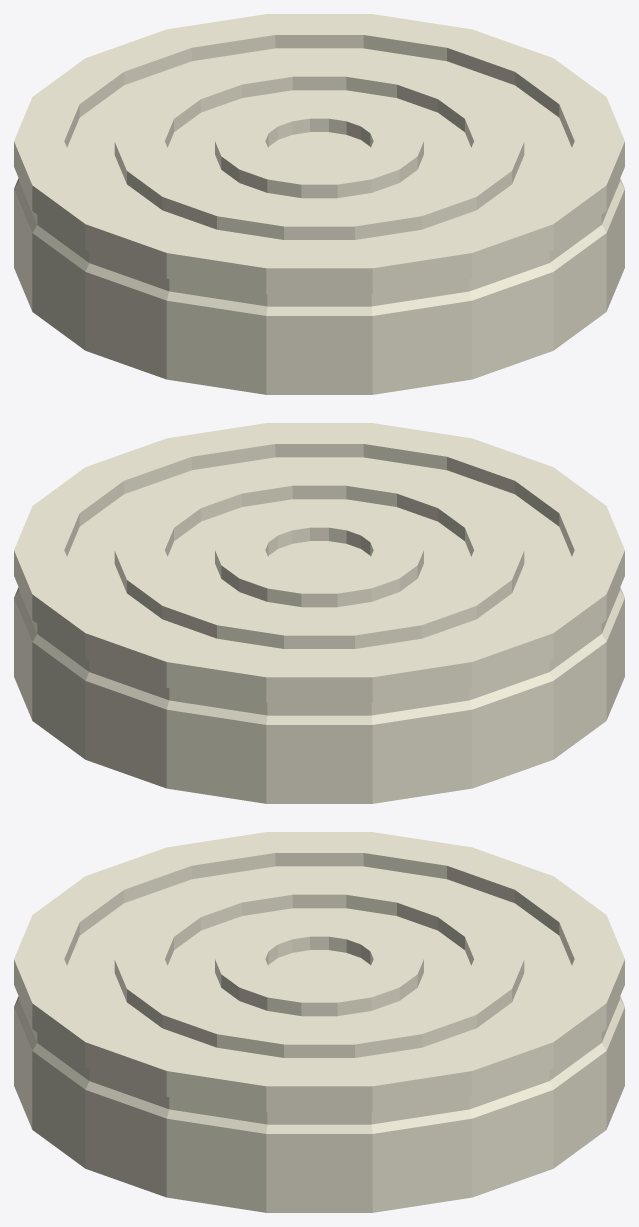
The model's file is shashka v4.obj.
3 renders of one model, top to bottom at view 1: azimuth 30°, elevation 25°; view 2: azimuth 150°, elevation 25°; view 3: azimuth 270°, elevation 25°, orthographic.
Visible parts, largest first — view 1: shashka_v3:Mesh; view 2: shashka_v3:Mesh; view 3: shashka_v3:Mesh.
Boxes of the visible parts, left/top/right/bottom form: shashka_v3:Mesh: left=14, top=14, right=624, bottom=394; shashka_v3:Mesh: left=14, top=423, right=624, bottom=803; shashka_v3:Mesh: left=14, top=832, right=624, bottom=1212.
Size of the model in its own units: 1.97 by 0.4573 by 2.
1 material, 1 textured.
